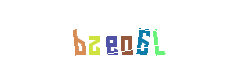6: (88, 0, 168, 80)
B: (38, 0, 118, 80)
E: (80, 0, 160, 80)
L: (117, 0, 197, 80)
O: (86, 0, 166, 80)
Z: (54, 0, 134, 80)
